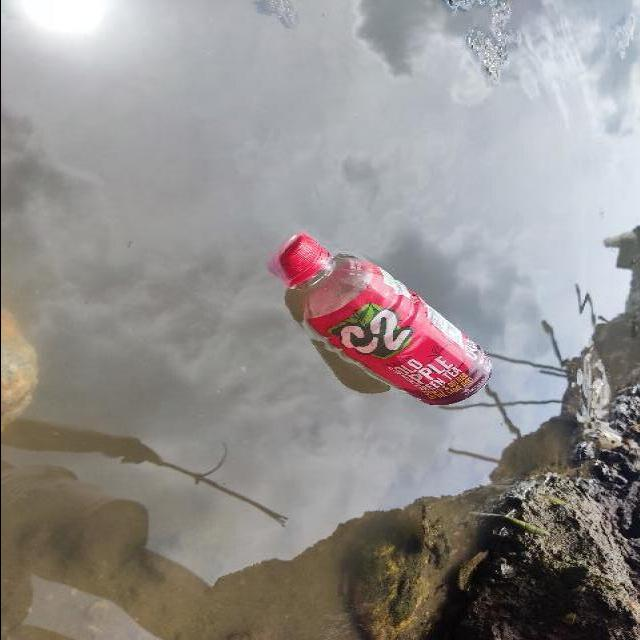Bottle: (277, 233, 496, 409)
